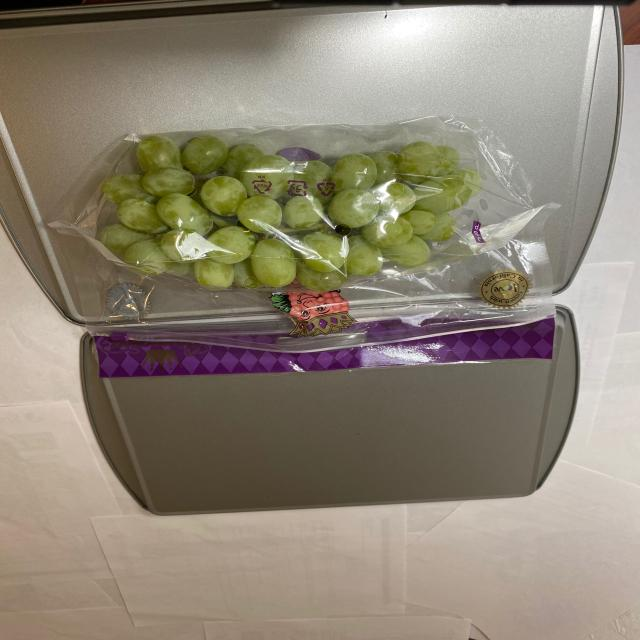grapes: (86, 133, 512, 284)
